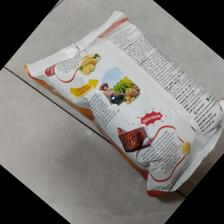Lays: (23, 9, 224, 199)
